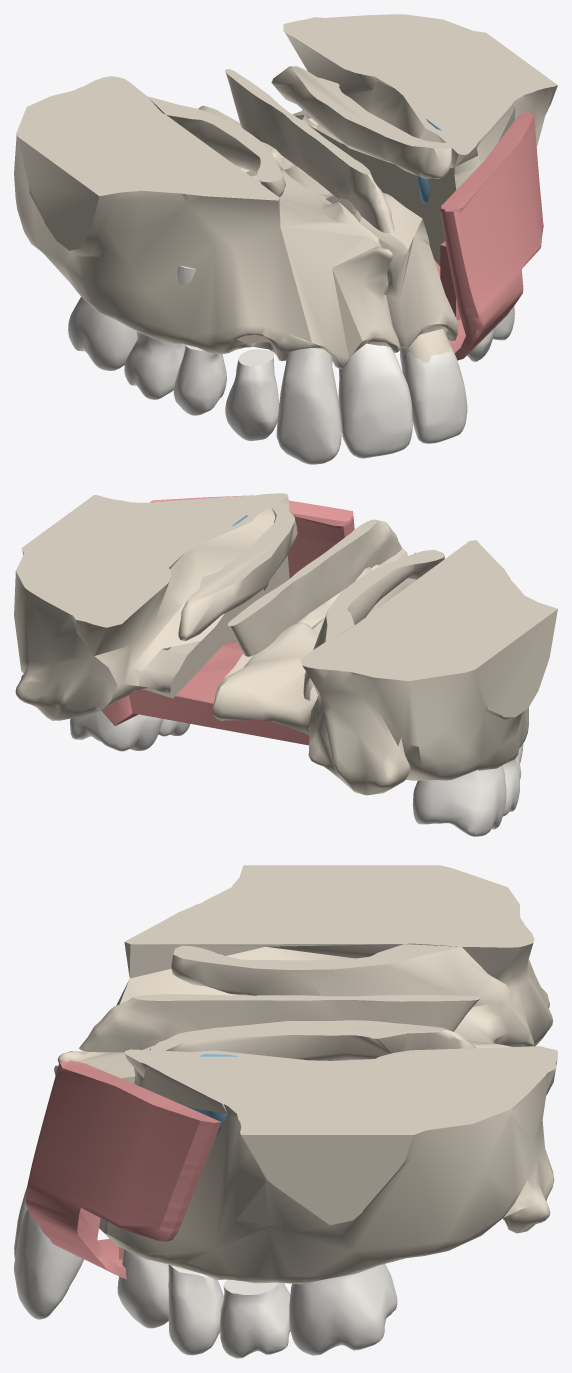
Rendered from abg-pre-op.glb.
The picture shows the model from 3 angles, top to bottom: view 1: azimuth 30°, elevation 25°; view 2: azimuth 150°, elevation 25°; view 3: azimuth 270°, elevation 25°; orthographic projection. The views are drawn at different scales.
Visible parts, largest first — view 1: bone, teeth, soft-tissue; view 2: bone, soft-tissue, teeth; view 3: bone, soft-tissue, teeth.
Boxes of the visible parts, x1,y1,x2,y2 form: bone: (14, 14, 557, 443); teeth: (68, 265, 514, 464); soft-tissue: (434, 112, 543, 360); bone: (14, 493, 557, 795); soft-tissue: (101, 495, 354, 745); teeth: (70, 647, 523, 836); bone: (14, 865, 557, 1319); soft-tissue: (26, 1060, 221, 1279); teeth: (14, 1188, 397, 1358).
Bounding box in the file's own units: 0.0972 × 0.0505 × 0.0828.
